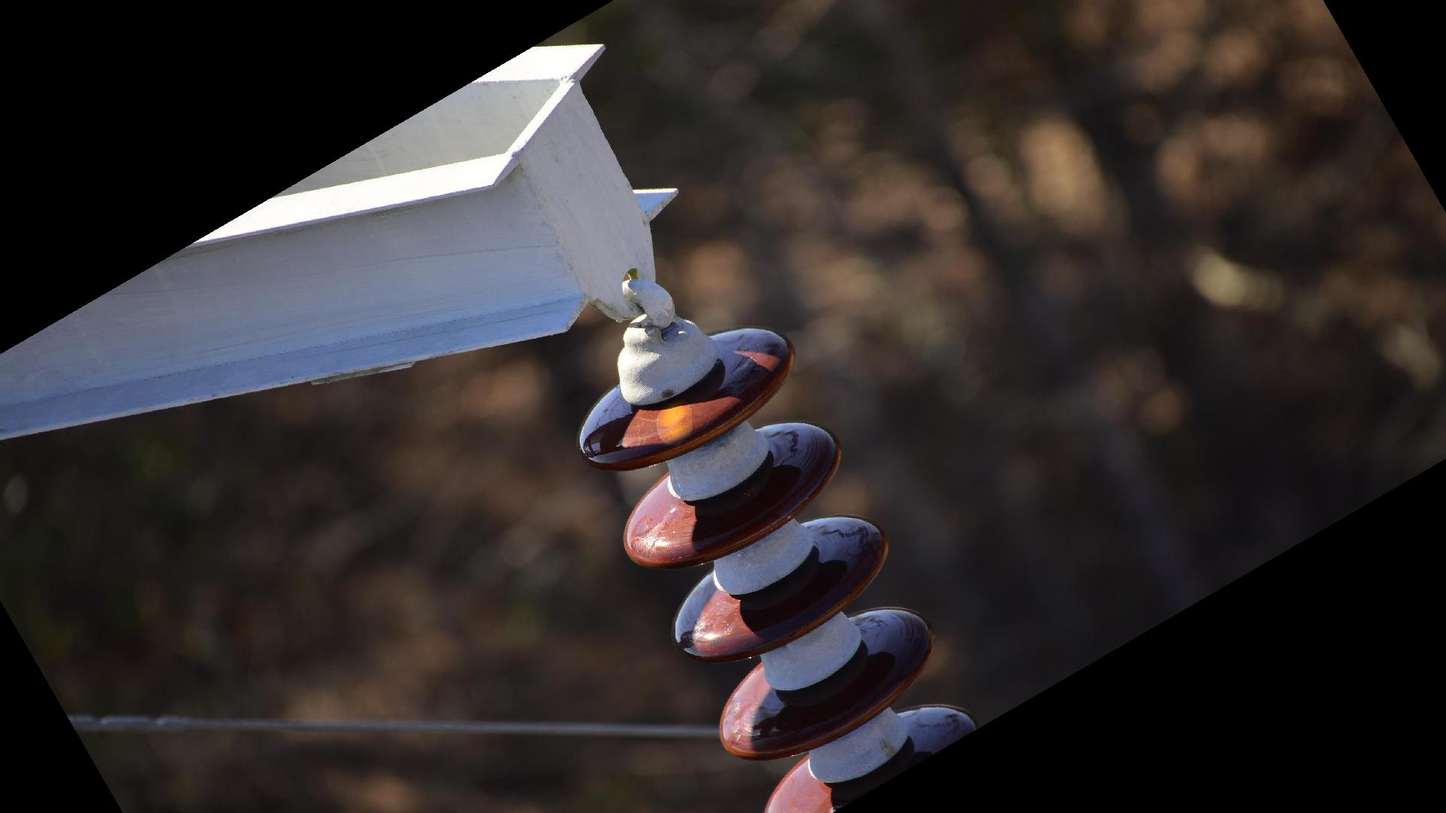insulator: (570, 321, 981, 813)
insulator_flashover: (651, 398, 697, 445)
